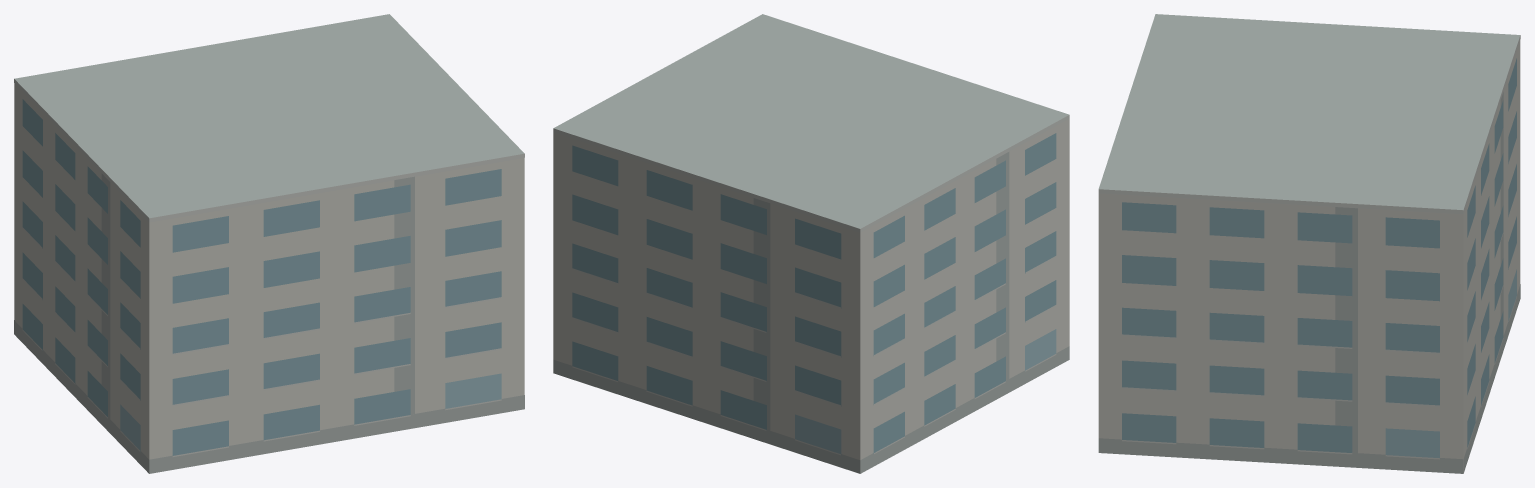
The model's file is survey-upis-32647186.glb.
The picture shows the model from 3 angles, left to right: view 1: azimuth 30°, elevation 25°; view 2: azimuth 150°, elevation 25°; view 3: azimuth 270°, elevation 25°; orthographic projection. The views are drawn at different scales.
Parts seen in each view (by area): view 1: survey-upis-32647186.tmp; view 2: survey-upis-32647186.tmp; view 3: survey-upis-32647186.tmp.
Boxes of the visible parts, x1,y1,x2,y2 form: survey-upis-32647186.tmp: [14, 14, 524, 473]; survey-upis-32647186.tmp: [553, 14, 1069, 473]; survey-upis-32647186.tmp: [1098, 14, 1520, 473].
Bounding box in the file's own units: 24.34 × 15.25 × 22.12.
